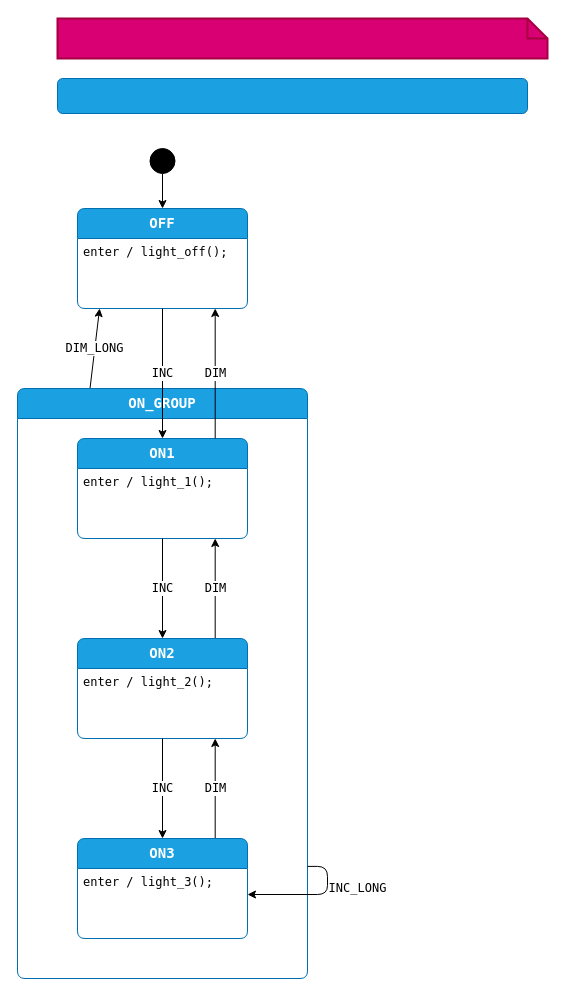
The diagram is 566 pixels wide and 996 high, and some of its shapes have lost their labels. The centre of each missing label's shape, as x and y in pixels:
"$STATEMACHINE : {fileName}" belongs at [292,96].
"This example requires StateSmith lib version 0.12.0+" belongs at [302,38].
